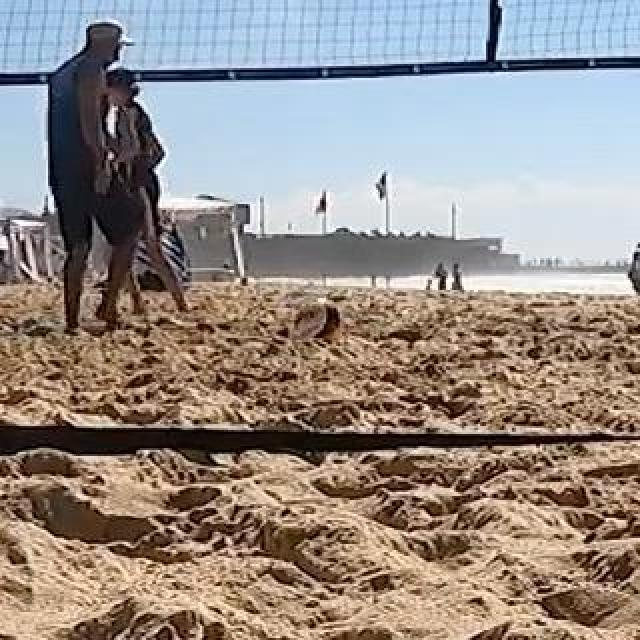volleyball: (293, 297, 341, 339)
